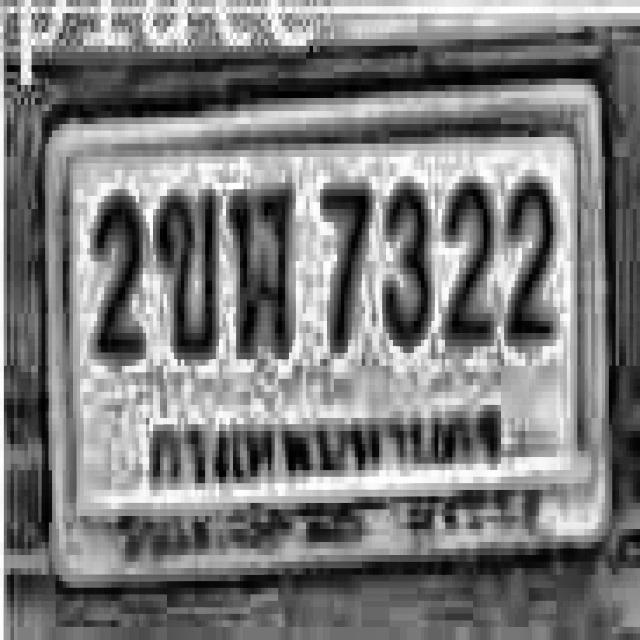license-plate: (41, 68, 610, 586)
